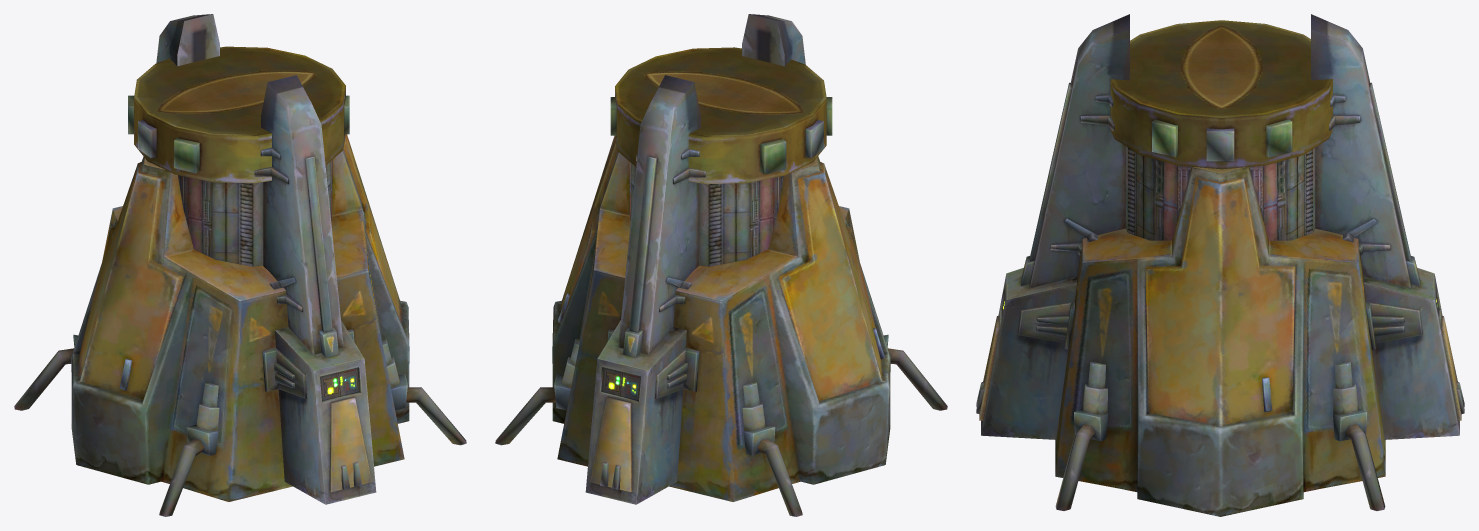
Rendered from all_arch_slum_radar_base.glb.
3 renders of one model, left to right at view 1: azimuth 30°, elevation 25°; view 2: azimuth 150°, elevation 25°; view 3: azimuth 270°, elevation 25°, orthographic. The views are drawn at different scales.
Visible parts, largest first — view 1: all_arch_slum_radar_base; view 2: all_arch_slum_radar_base; view 3: all_arch_slum_radar_base.
Boxes of the visible parts, bbox=[...] form: all_arch_slum_radar_base: bbox=[14, 14, 466, 516]; all_arch_slum_radar_base: bbox=[495, 14, 947, 516]; all_arch_slum_radar_base: bbox=[976, 14, 1464, 516].
Size of the model in its own units: 0.6649 by 0.7125 by 0.7725.
Materials: 1 (1 with a texture image).
